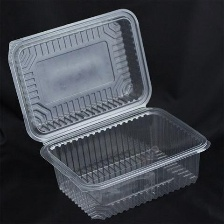plastic_box: (3, 4, 215, 223)
